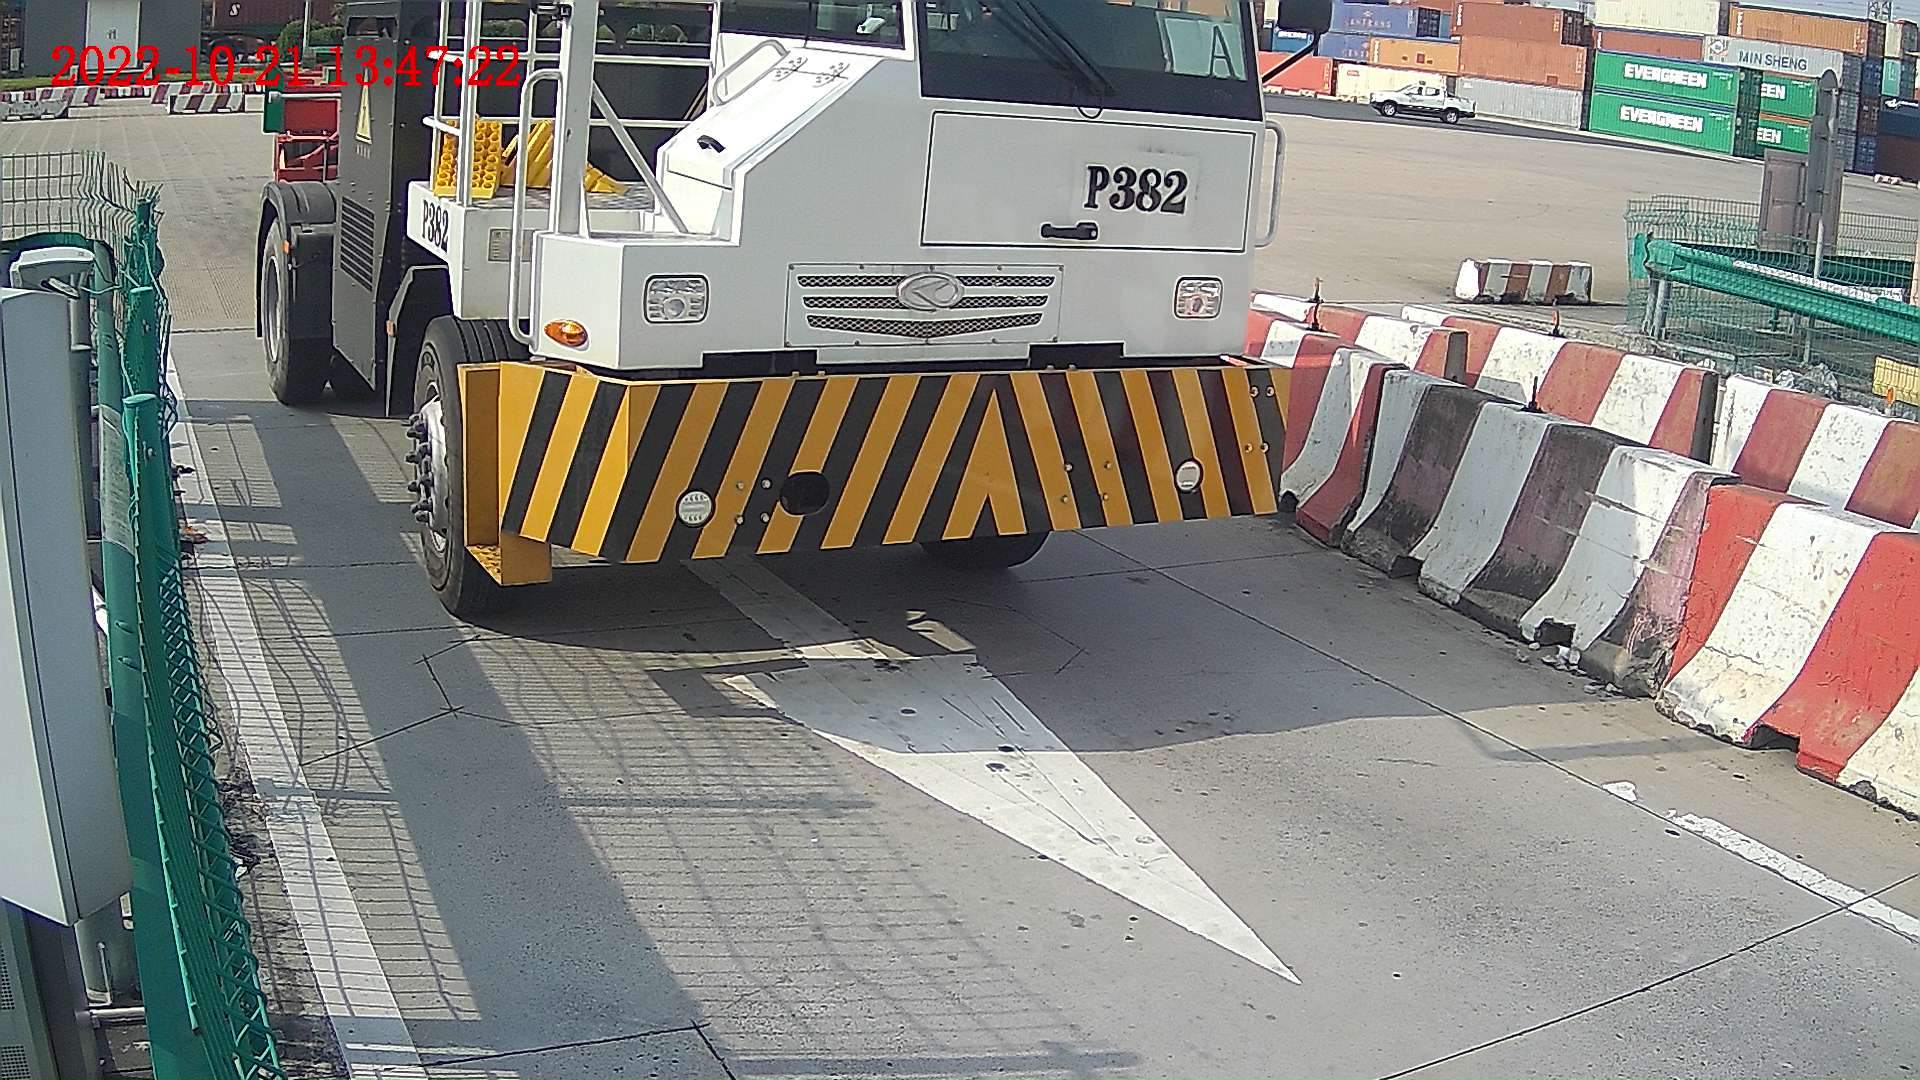head: (405, 1, 1333, 615)
